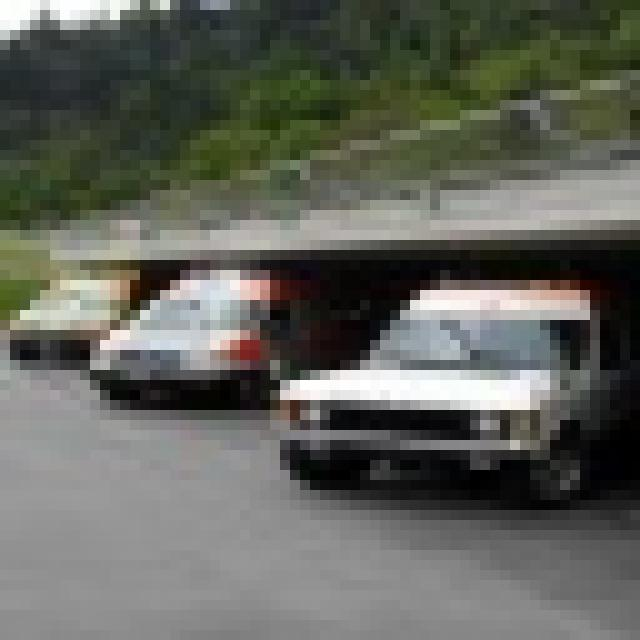Ambulance: (271, 229, 640, 520)
